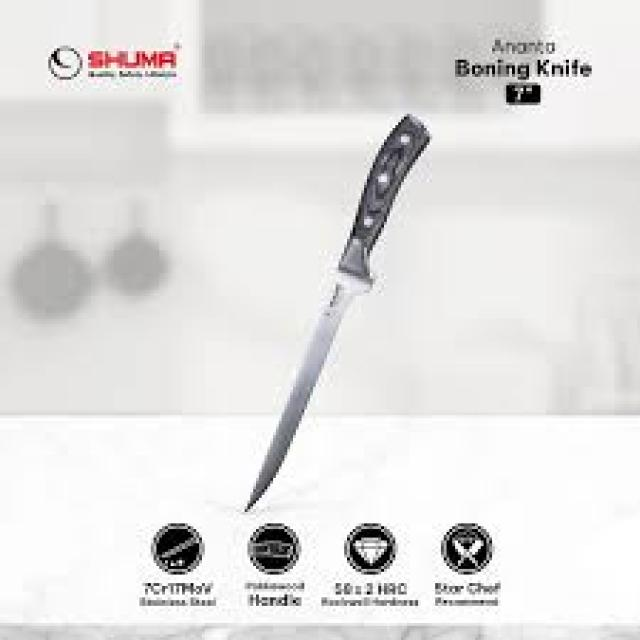Knife: (245, 114, 427, 509)
